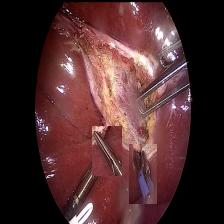Bipolar: (128, 143, 156, 203)
Grasper: (132, 36, 194, 119), (91, 125, 121, 175)
